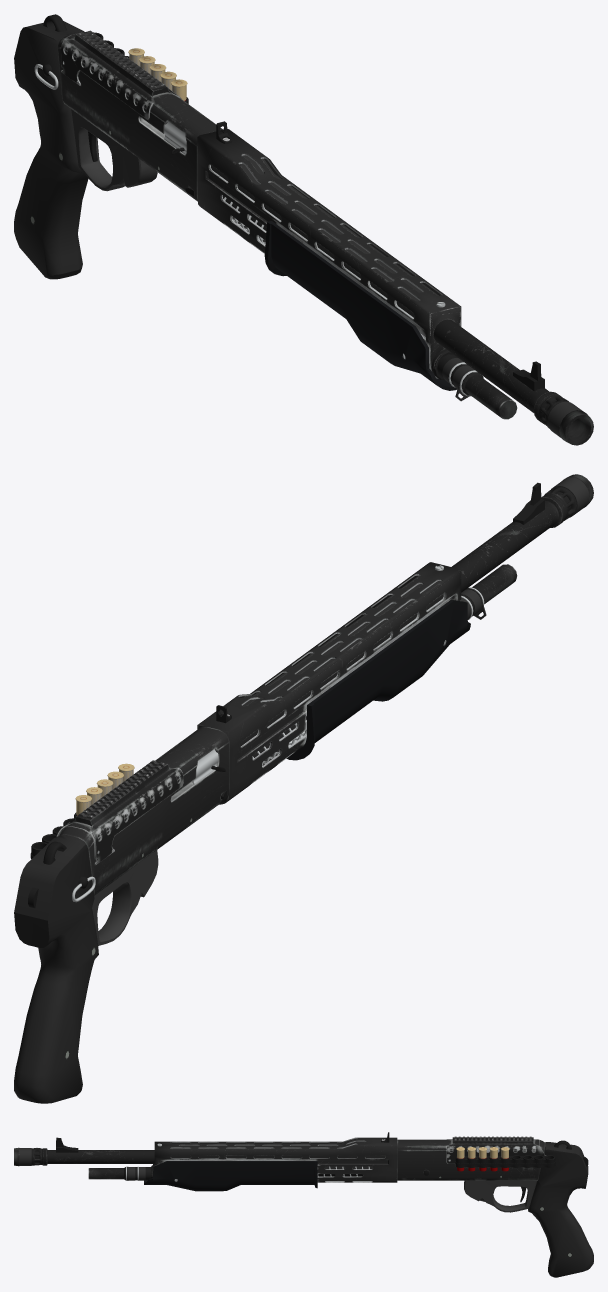
The model's file is spas_12_shotgun.glb.
3 views of the same model, one above another, from view 1: azimuth 30°, elevation 25°; view 2: azimuth 150°, elevation 25°; view 3: azimuth 270°, elevation 25° (orthographic). The views are drawn at different scales.
Parts seen in each view (by area): view 1: g (×7); view 2: g (×7); view 3: g (×7).
Boxes of the visible parts, x1,y1,x2,y2 form: g (×7): (14, 14, 593, 445); g (×7): (14, 474, 593, 1103); g (×7): (14, 1132, 593, 1277).
Size of the model in its own units: 0.1305 by 0.5371 by 2.
Materials: 4 (4 with a texture image).
